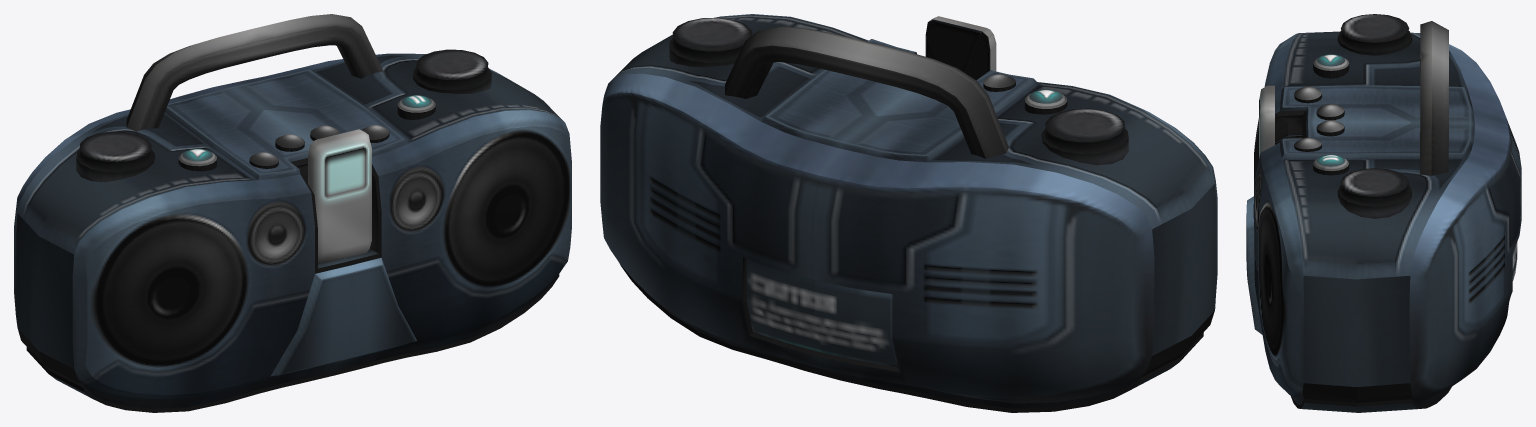
The model's file is boombox.glb.
3 renders of one model, left to right at view 1: azimuth 30°, elevation 25°; view 2: azimuth 150°, elevation 25°; view 3: azimuth 270°, elevation 25°, orthographic. The views are drawn at different scales.
Visible parts, largest first — view 1: Handle1; view 2: Handle1; view 3: Handle1.
Part boxes in pixels (x1,y1,x2,y2): Handle1: (14, 14, 571, 412); Handle1: (600, 14, 1217, 412); Handle1: (1246, 14, 1521, 412).
Bounding box in the file's own units: 3.45 × 1.89 × 1.71.
1 material, 1 textured.
